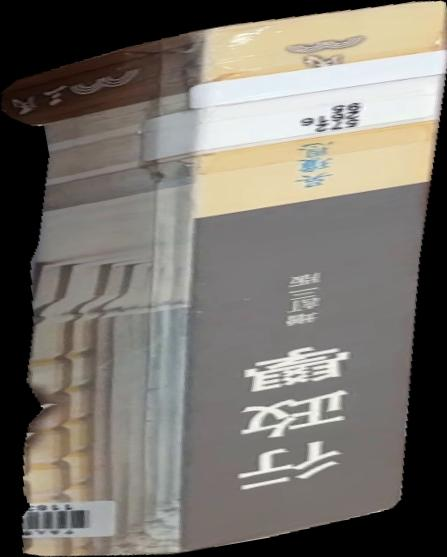reverse: (1, 1, 447, 557)
